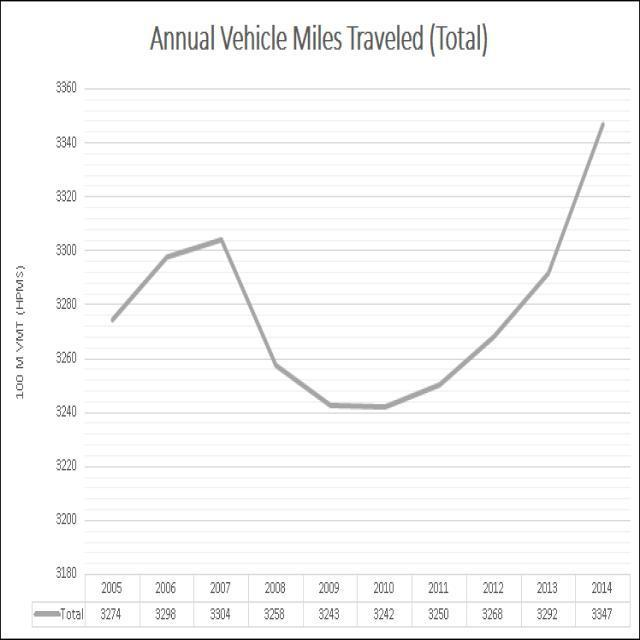axis: (80, 73, 92, 577)
line: (106, 118, 609, 412)
